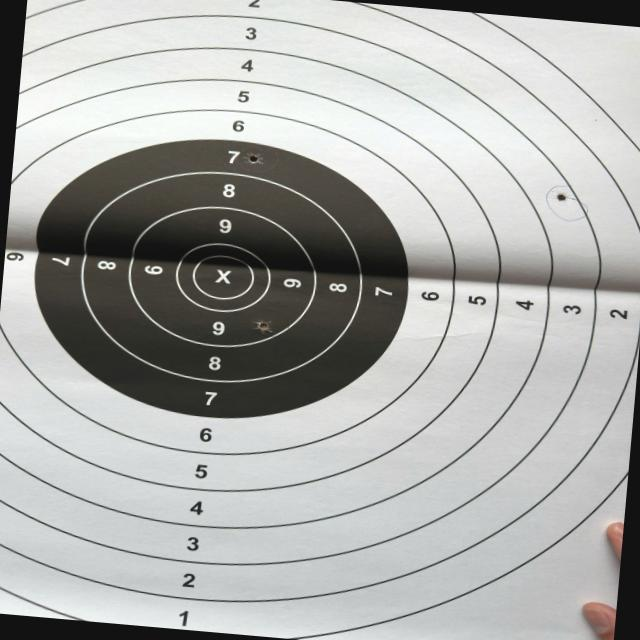bullet: (255, 319, 271, 331), (250, 153, 261, 164), (556, 192, 567, 201)
target: (0, 0, 640, 640)
